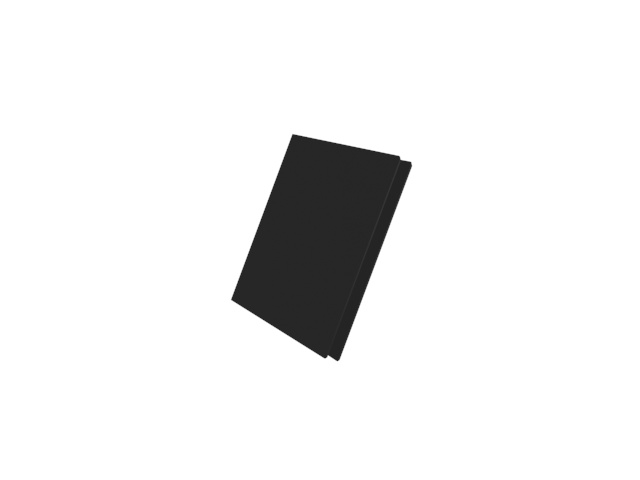ring_binder: (225, 129, 416, 368)
